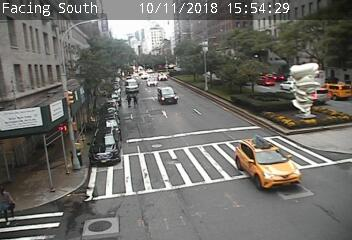car: (236, 139, 300, 189), (90, 128, 120, 165), (158, 87, 177, 103), (280, 80, 300, 91), (255, 76, 275, 86), (146, 77, 157, 86)
